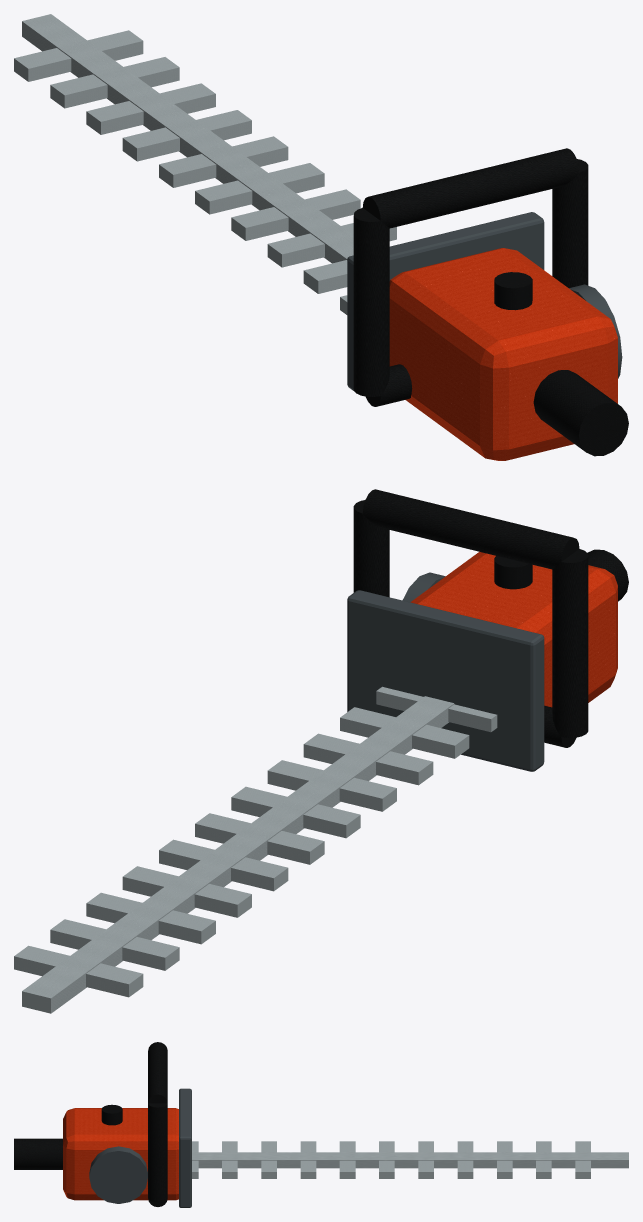
File: GasHedgeTrimmer.gltf
The picture shows the model from 3 angles, top to bottom: view 1: azimuth 30°, elevation 25°; view 2: azimuth 150°, elevation 25°; view 3: azimuth 270°, elevation 25°; orthographic projection. The views are drawn at different scales.
Visible parts, largest first — view 1: GasHedgeTrimmer__Body; view 2: GasHedgeTrimmer__Body; view 3: GasHedgeTrimmer__Body.
Boxes of the visible parts, x1=… form: GasHedgeTrimmer__Body: x1=14, y1=14, x2=628, y2=460; GasHedgeTrimmer__Body: x1=14, y1=489, x2=628, y2=1013; GasHedgeTrimmer__Body: x1=14, y1=1042, x2=628, y2=1207.
Size of the model in its own units: 0.308 by 0.28 by 1.32.
Materials: 2 (1 with a texture image).
